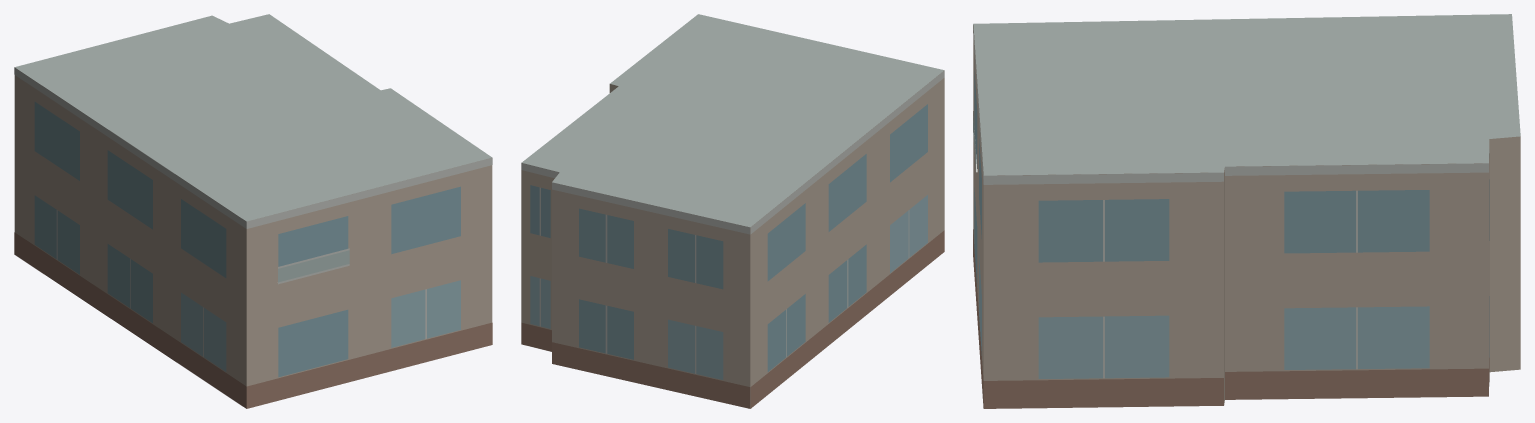
The model's file is survey-upis-32637005.glb.
3 views of the same model, side by side, from view 1: azimuth 30°, elevation 25°; view 2: azimuth 150°, elevation 25°; view 3: azimuth 270°, elevation 25° (orthographic). The views are drawn at different scales.
Parts seen in each view (by area): view 1: survey-upis-32637005.tmp; view 2: survey-upis-32637005.tmp; view 3: survey-upis-32637005.tmp.
Part boxes in pixels (<box>): survey-upis-32637005.tmp: <box>14,14,492,408</box>; survey-upis-32637005.tmp: <box>521,14,944,408</box>; survey-upis-32637005.tmp: <box>973,14,1520,408</box>.
Size of the model in its own units: 9.07 by 6.1 by 12.99.
